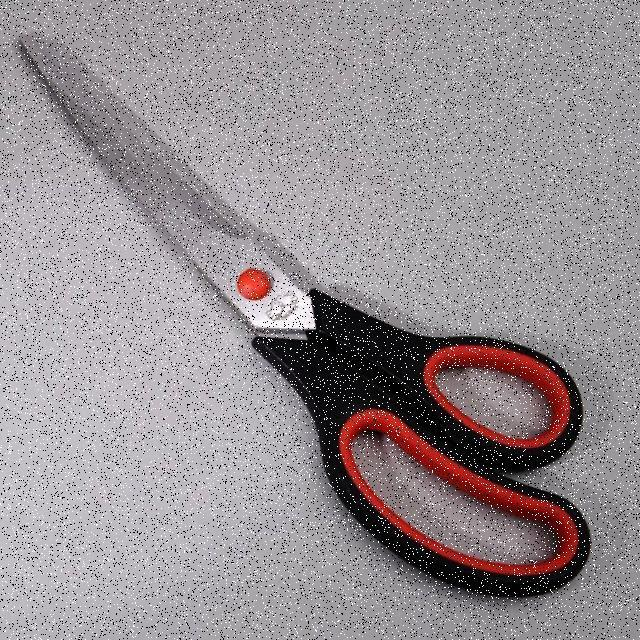scissors: (16, 28, 596, 602)
